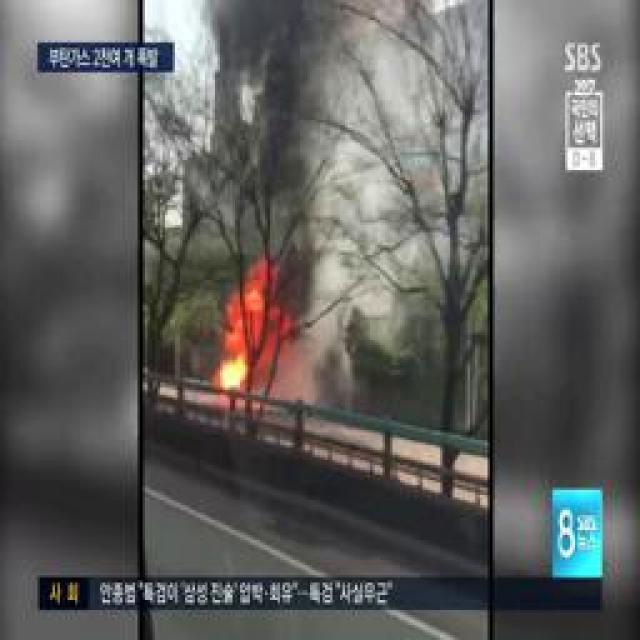Fire: (217, 283, 295, 389)
